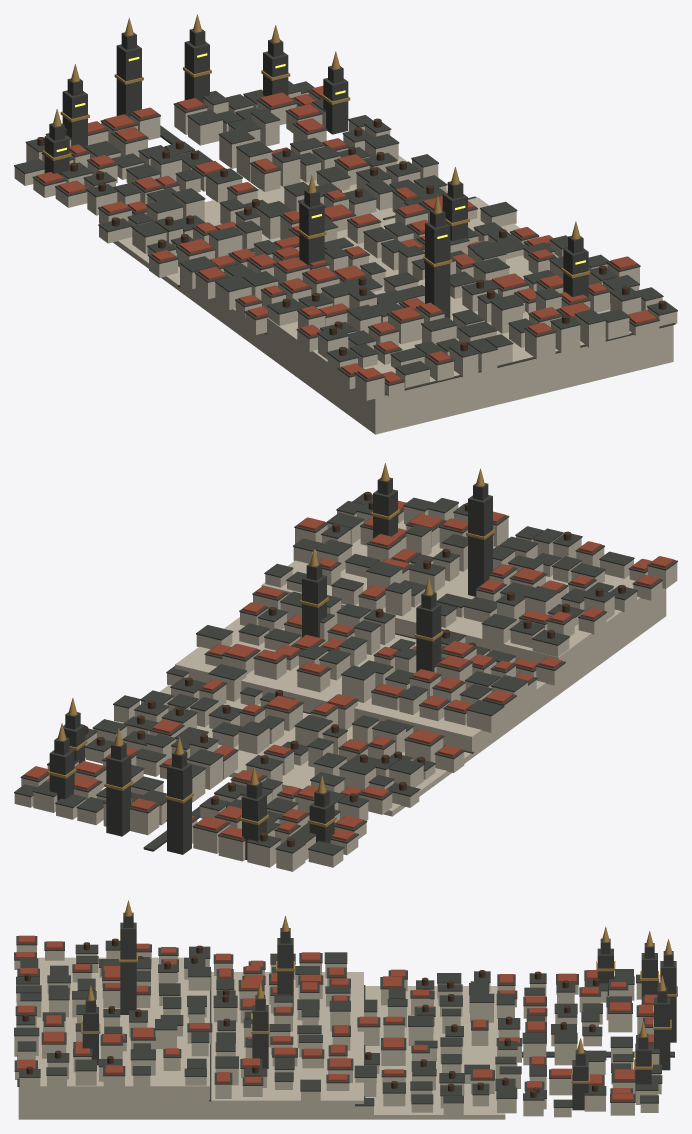
The model's file is ordo_town.glb.
The picture shows the model from 3 angles, top to bottom: view 1: azimuth 30°, elevation 25°; view 2: azimuth 150°, elevation 25°; view 3: azimuth 270°, elevation 25°; orthographic projection. The views are drawn at different scales.
Parts seen in each view (by area): view 1: ordo_town; view 2: ordo_town; view 3: ordo_town.
Part boxes in pixels (left/top/right/bottom): ordo_town: left=14, top=14, right=677, bottom=434; ordo_town: left=14, top=463, right=677, bottom=871; ordo_town: left=14, top=900, right=677, bottom=1119.
Size of the model in its own units: 106 by 50.8 by 211.
